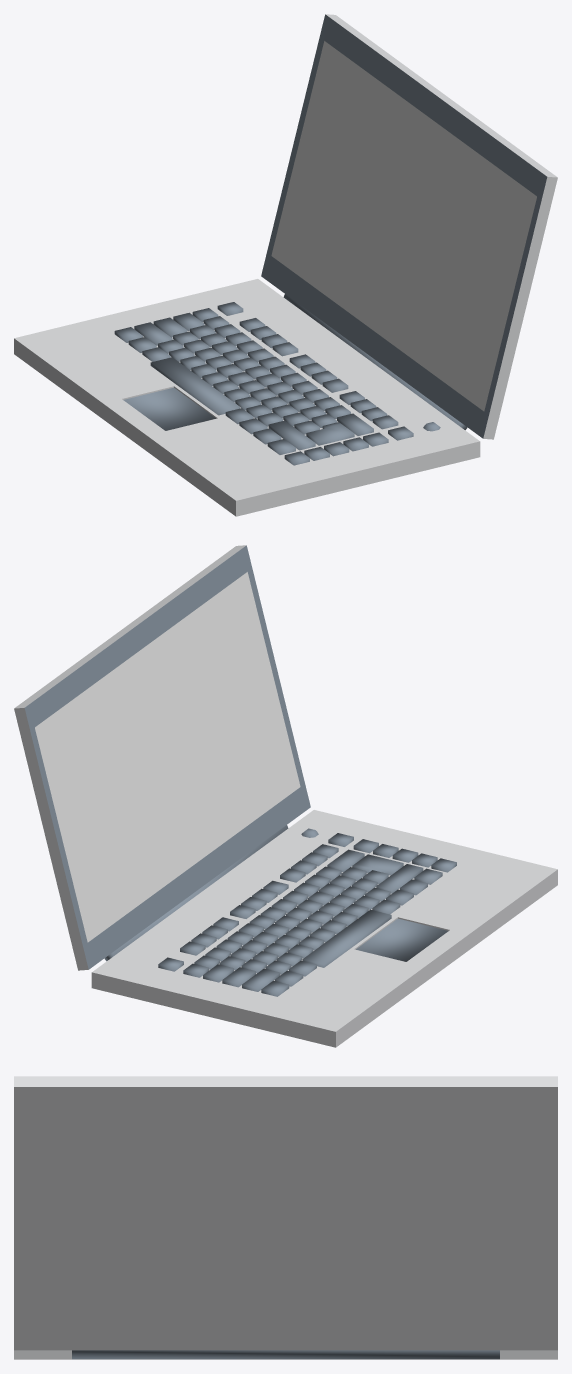
The model's file is laptop2.glb.
3 renders of one model, top to bottom at view 1: azimuth 30°, elevation 25°; view 2: azimuth 150°, elevation 25°; view 3: azimuth 270°, elevation 25°, orthographic. The views are drawn at different scales.
Visible parts, largest first — view 1: laptop, monitor_img; view 2: laptop, monitor_img; view 3: laptop.
Boxes of the visible parts, x1,y1,x2,y2 form: laptop: (14,14,557,516); monitor_img: (271,41,536,411); laptop: (14,545,557,1047); monitor_img: (35,572,300,942); laptop: (14,1076,557,1359).
Bounding box in the file's own units: 1.72 × 1.35 × 2.06.
1 material, 1 textured.
